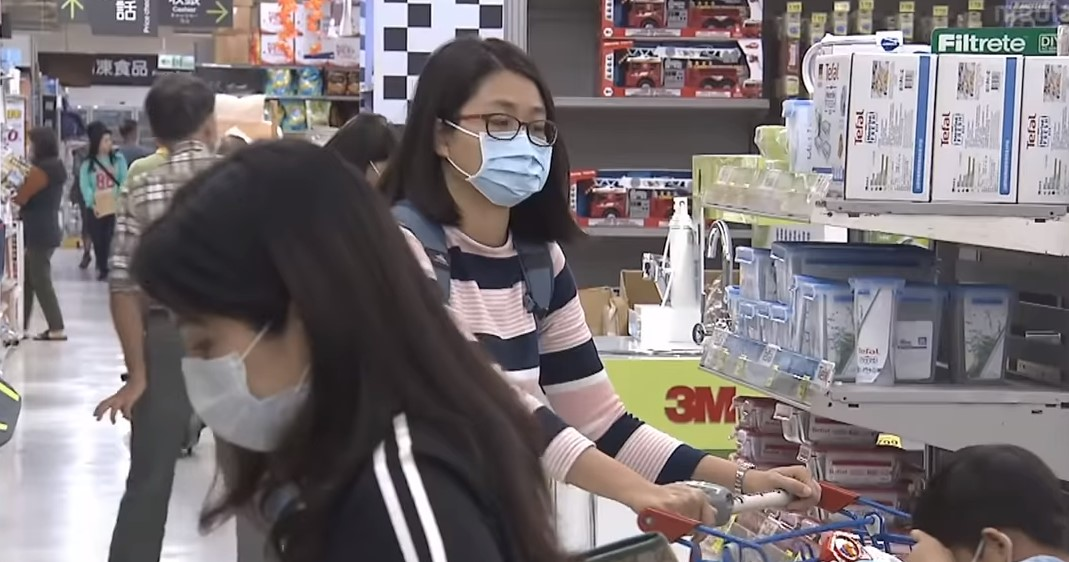face_with_mask: (137, 135, 411, 451), (409, 36, 565, 209)
